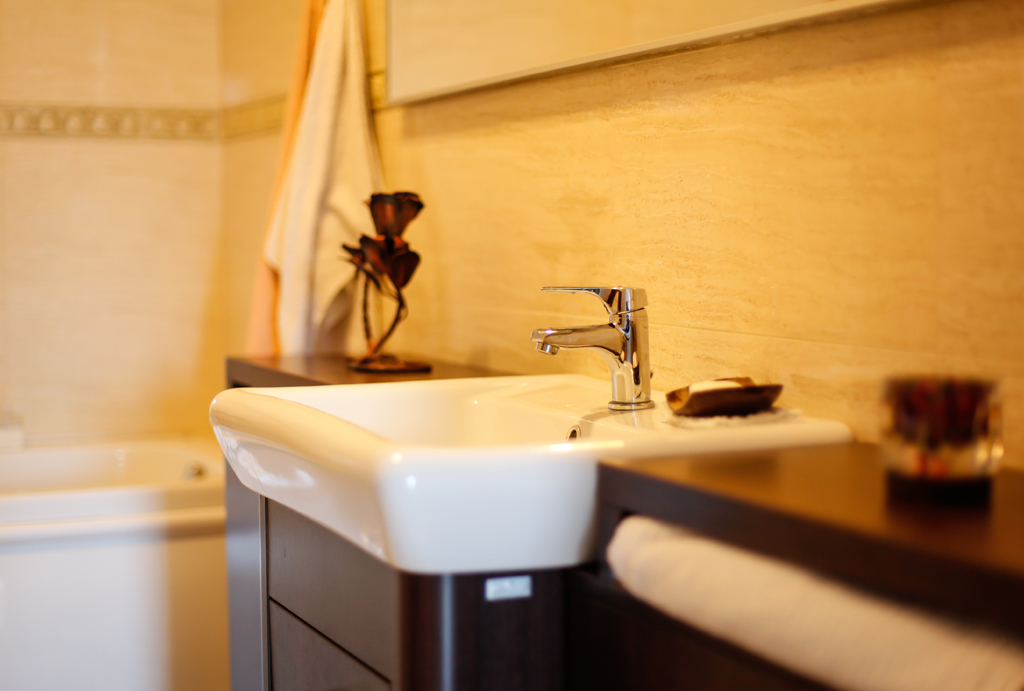tap: (523, 282, 667, 410)
